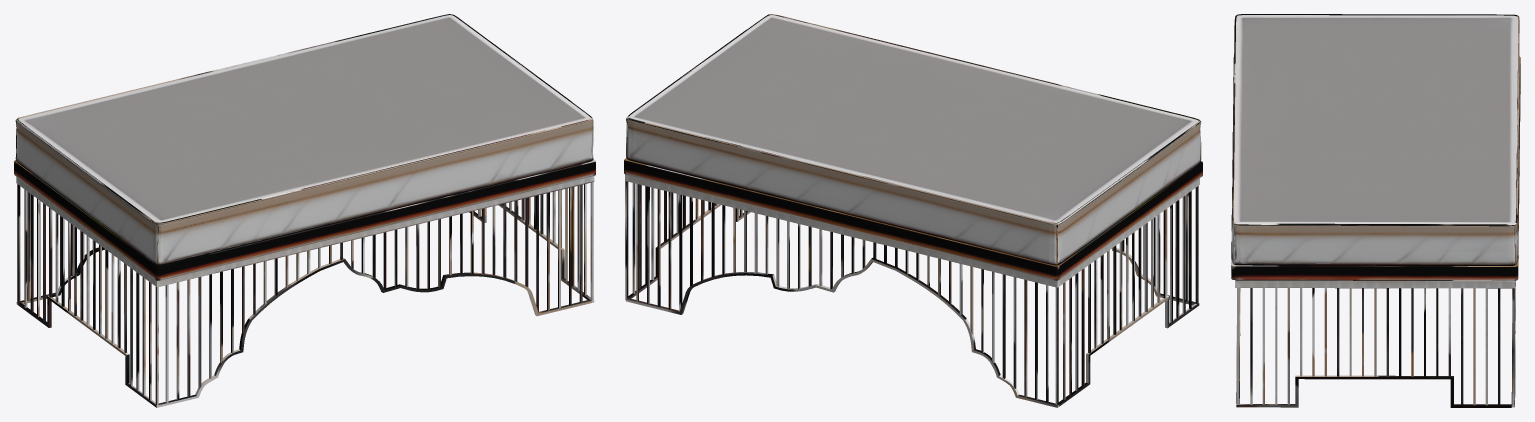
Rendered from edited_mesh.glb.
The picture shows the model from 3 angles, left to right: view 1: azimuth 30°, elevation 25°; view 2: azimuth 150°, elevation 25°; view 3: azimuth 270°, elevation 25°; orthographic projection.
Visible parts, largest first — view 1: solid_001_wire; view 2: solid_001_wire; view 3: solid_001_wire.
Boxes of the visible parts, bbox=[...] form: solid_001_wire: bbox=[14, 14, 595, 407]; solid_001_wire: bbox=[624, 14, 1202, 407]; solid_001_wire: bbox=[1231, 14, 1520, 407].
Bounding box in the file's own units: 2 × 0.8071 × 1.16.
Materials: 1 (1 with a texture image).
